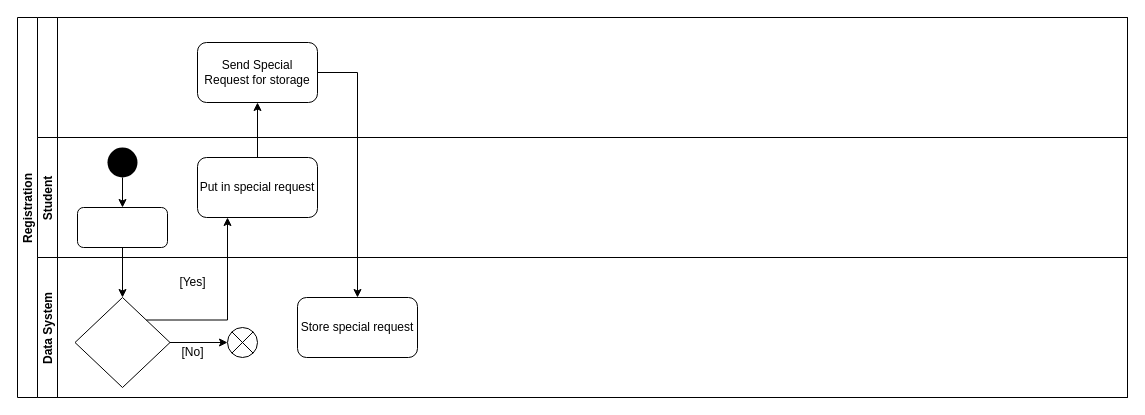
Image size: 1145x415. Some labels were removed from this diagram. The box of each missing label's shape, as (x1, y1, x2, y2) in pixels:
1-800 Number: (36, 16, 1128, 138)
Is there enough space?: (74, 296, 170, 388)
Sign Up for classes: (76, 206, 168, 248)
